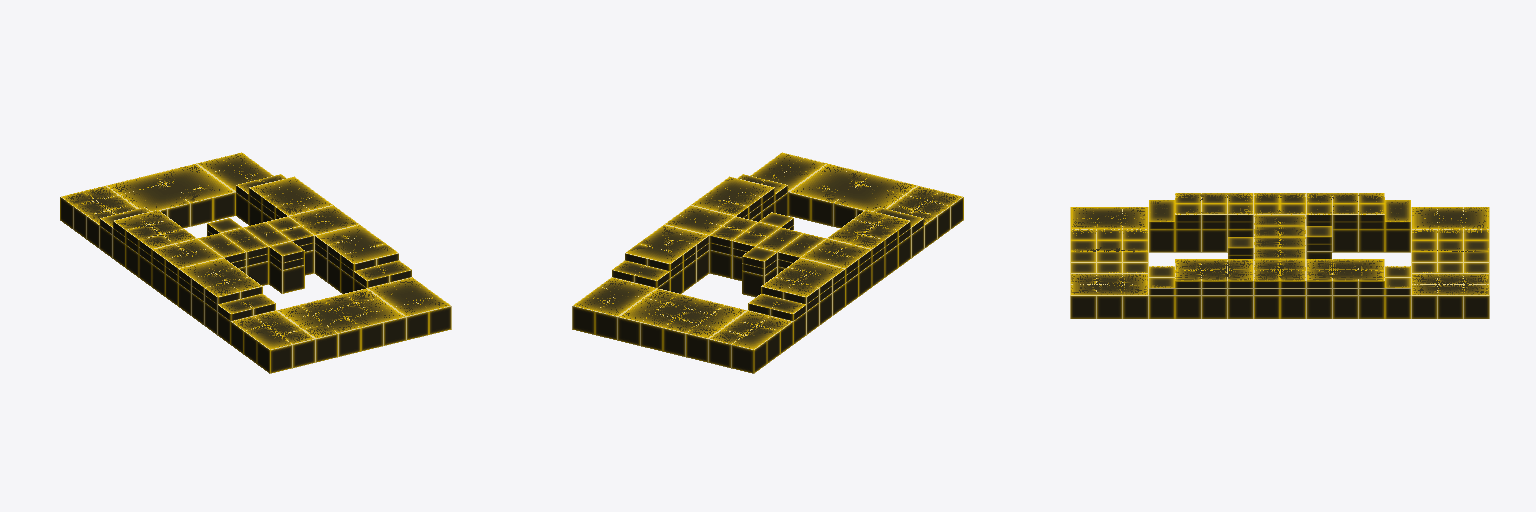
3 views of the same model, side by side, from view 1: azimuth 30°, elevation 25°; view 2: azimuth 150°, elevation 25°; view 3: azimuth 270°, elevation 25° (orthographic).
Visible parts, largest first — view 1: Plane, Plane.001_Plane.002; view 2: Plane, Plane.001_Plane.002; view 3: Plane, Plane.001_Plane.002.
Part boxes in pixels (left/top/right/bottom): Plane: left=60, top=153, right=451, bottom=373; Plane.001_Plane.002: left=61, top=152, right=450, bottom=349; Plane: left=572, top=153, right=963, bottom=373; Plane.001_Plane.002: left=573, top=152, right=962, bottom=349; Plane: left=1070, top=193, right=1489, bottom=318; Plane.001_Plane.002: left=1070, top=193, right=1489, bottom=295.
Size of the model in its own units: 8 by 1.6 by 16.
Materials: 2 (2 with a texture image).